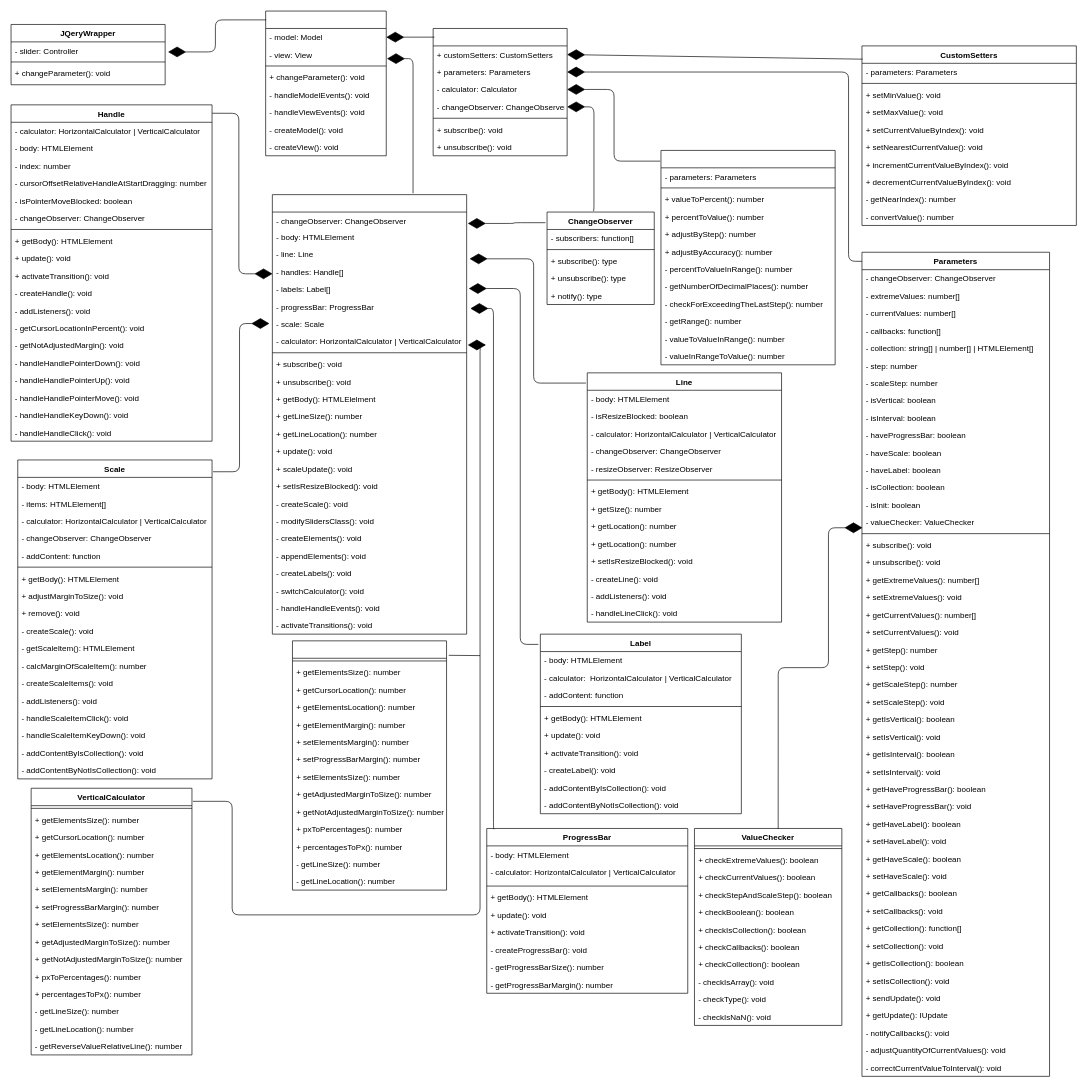
Image size: 1087x1087. Some labels were removed from this diagram. Each missing label, with the box of its shape:
Calculator: (660, 150, 835, 365)
Controller: (265, 10, 386, 156)
HorizontalCalculator: (292, 640, 447, 890)
Model: (432, 28, 567, 156)
View: (272, 194, 467, 634)
